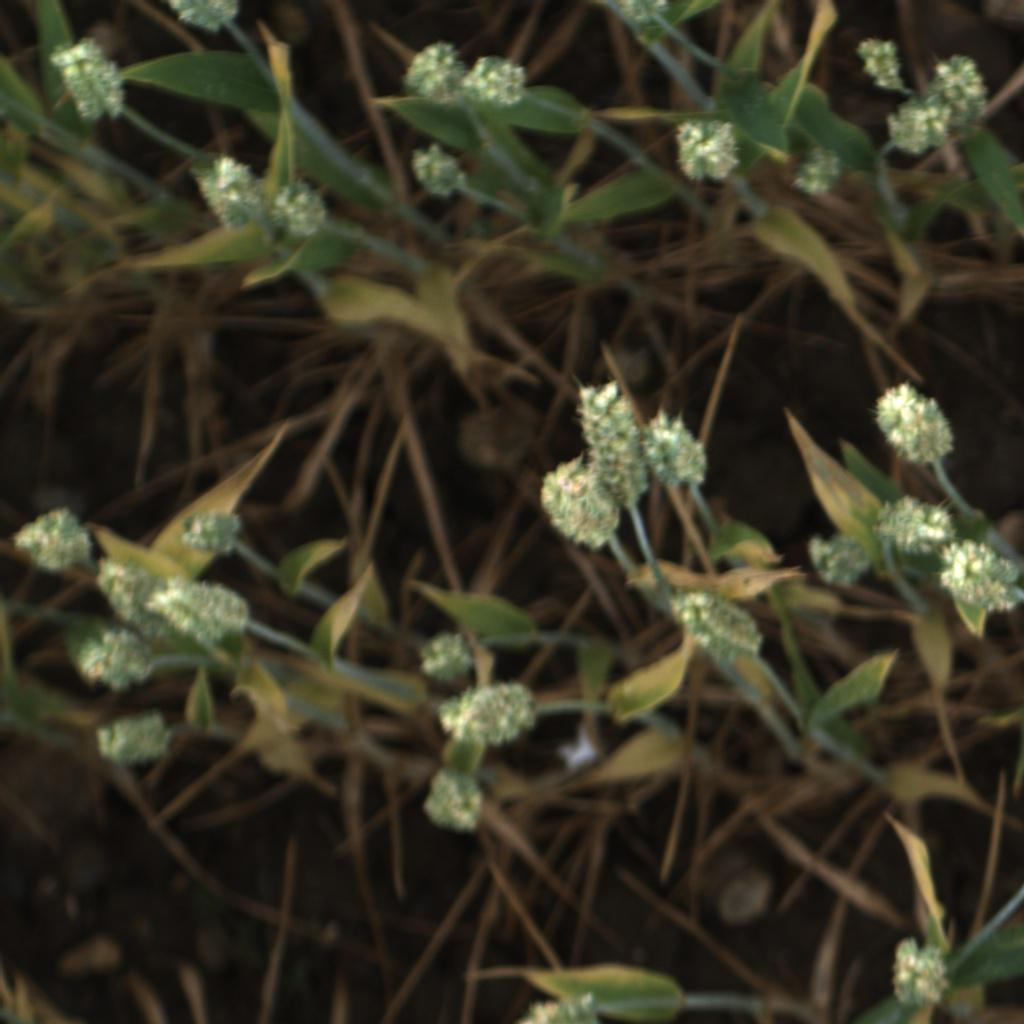0-0: (572, 376, 649, 502), (534, 459, 626, 551), (148, 572, 258, 648), (871, 380, 959, 468), (45, 35, 129, 124), (667, 587, 765, 663), (432, 680, 537, 748), (188, 152, 268, 233), (640, 408, 717, 491), (937, 539, 1023, 613), (72, 624, 159, 695), (91, 549, 162, 633), (665, 112, 746, 185), (11, 504, 90, 577), (91, 707, 173, 775), (868, 497, 958, 557), (886, 931, 950, 1009), (420, 765, 490, 836), (923, 53, 991, 123), (405, 139, 475, 205), (882, 96, 952, 160), (411, 625, 484, 686), (803, 531, 872, 595), (459, 52, 531, 111), (265, 178, 330, 241), (405, 43, 468, 108), (178, 504, 245, 561), (850, 28, 906, 94), (789, 143, 850, 202), (512, 989, 607, 1024), (154, 0, 245, 35), (616, 0, 670, 30)
